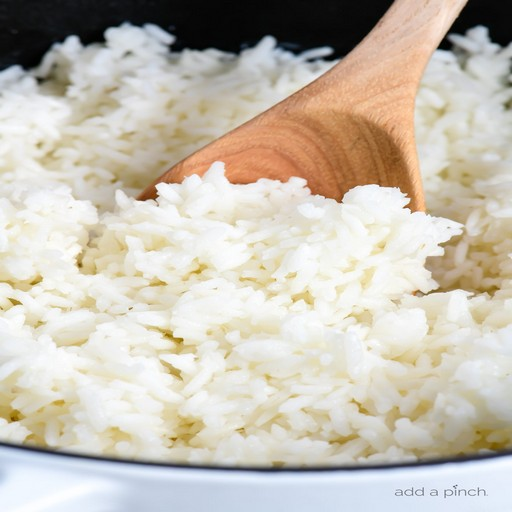rice: (51, 232, 368, 430)
